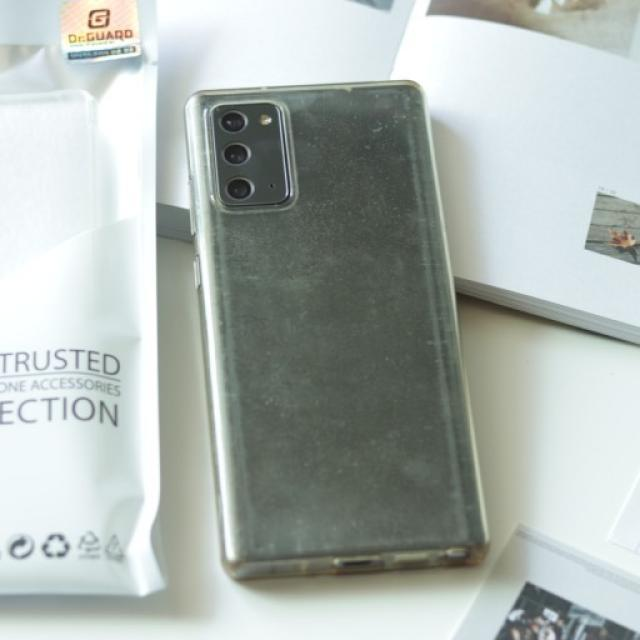phone: (182, 76, 493, 582)
